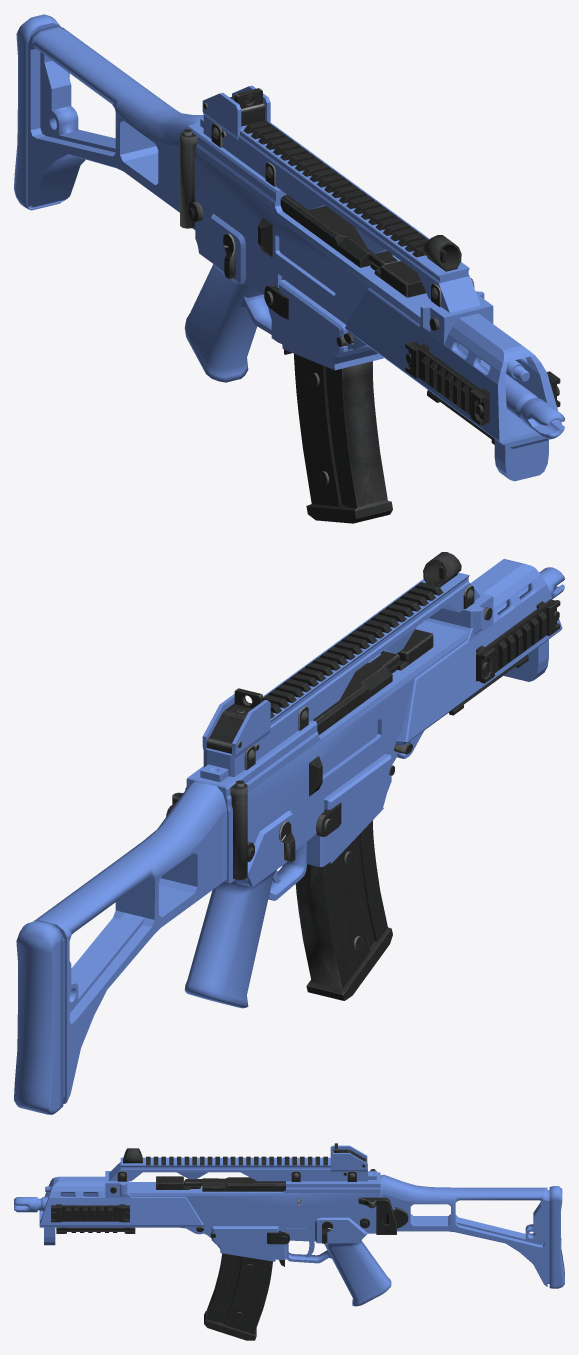
3 renders of one model, top to bottom at view 1: azimuth 30°, elevation 25°; view 2: azimuth 150°, elevation 25°; view 3: azimuth 270°, elevation 25°, orthographic. The views are drawn at different scales.
Visible parts, largest first — view 1: Body, Magazines, Acc, Attachment; view 2: Body, Magazines, Acc, Attachment; view 3: Body, Magazines, Acc, Attachment.
Boxes of the visible parts, box(x1,y1,x2,y2) form: Body: box(14, 14, 564, 481); Magazines: box(180, 88, 425, 523); Acc: box(188, 120, 474, 354); Attachment: box(405, 341, 560, 444); Body: box(14, 559, 564, 1114); Magazines: box(166, 629, 433, 1000); Acc: box(244, 552, 492, 883); Attachment: box(449, 599, 560, 715); Body: box(14, 1145, 564, 1306); Magazines: box(156, 1143, 408, 1340); Acc: box(110, 1148, 369, 1266); Attachment: box(51, 1204, 135, 1233).
Size of the model in its own units: 701 by 2906 by 7647.
